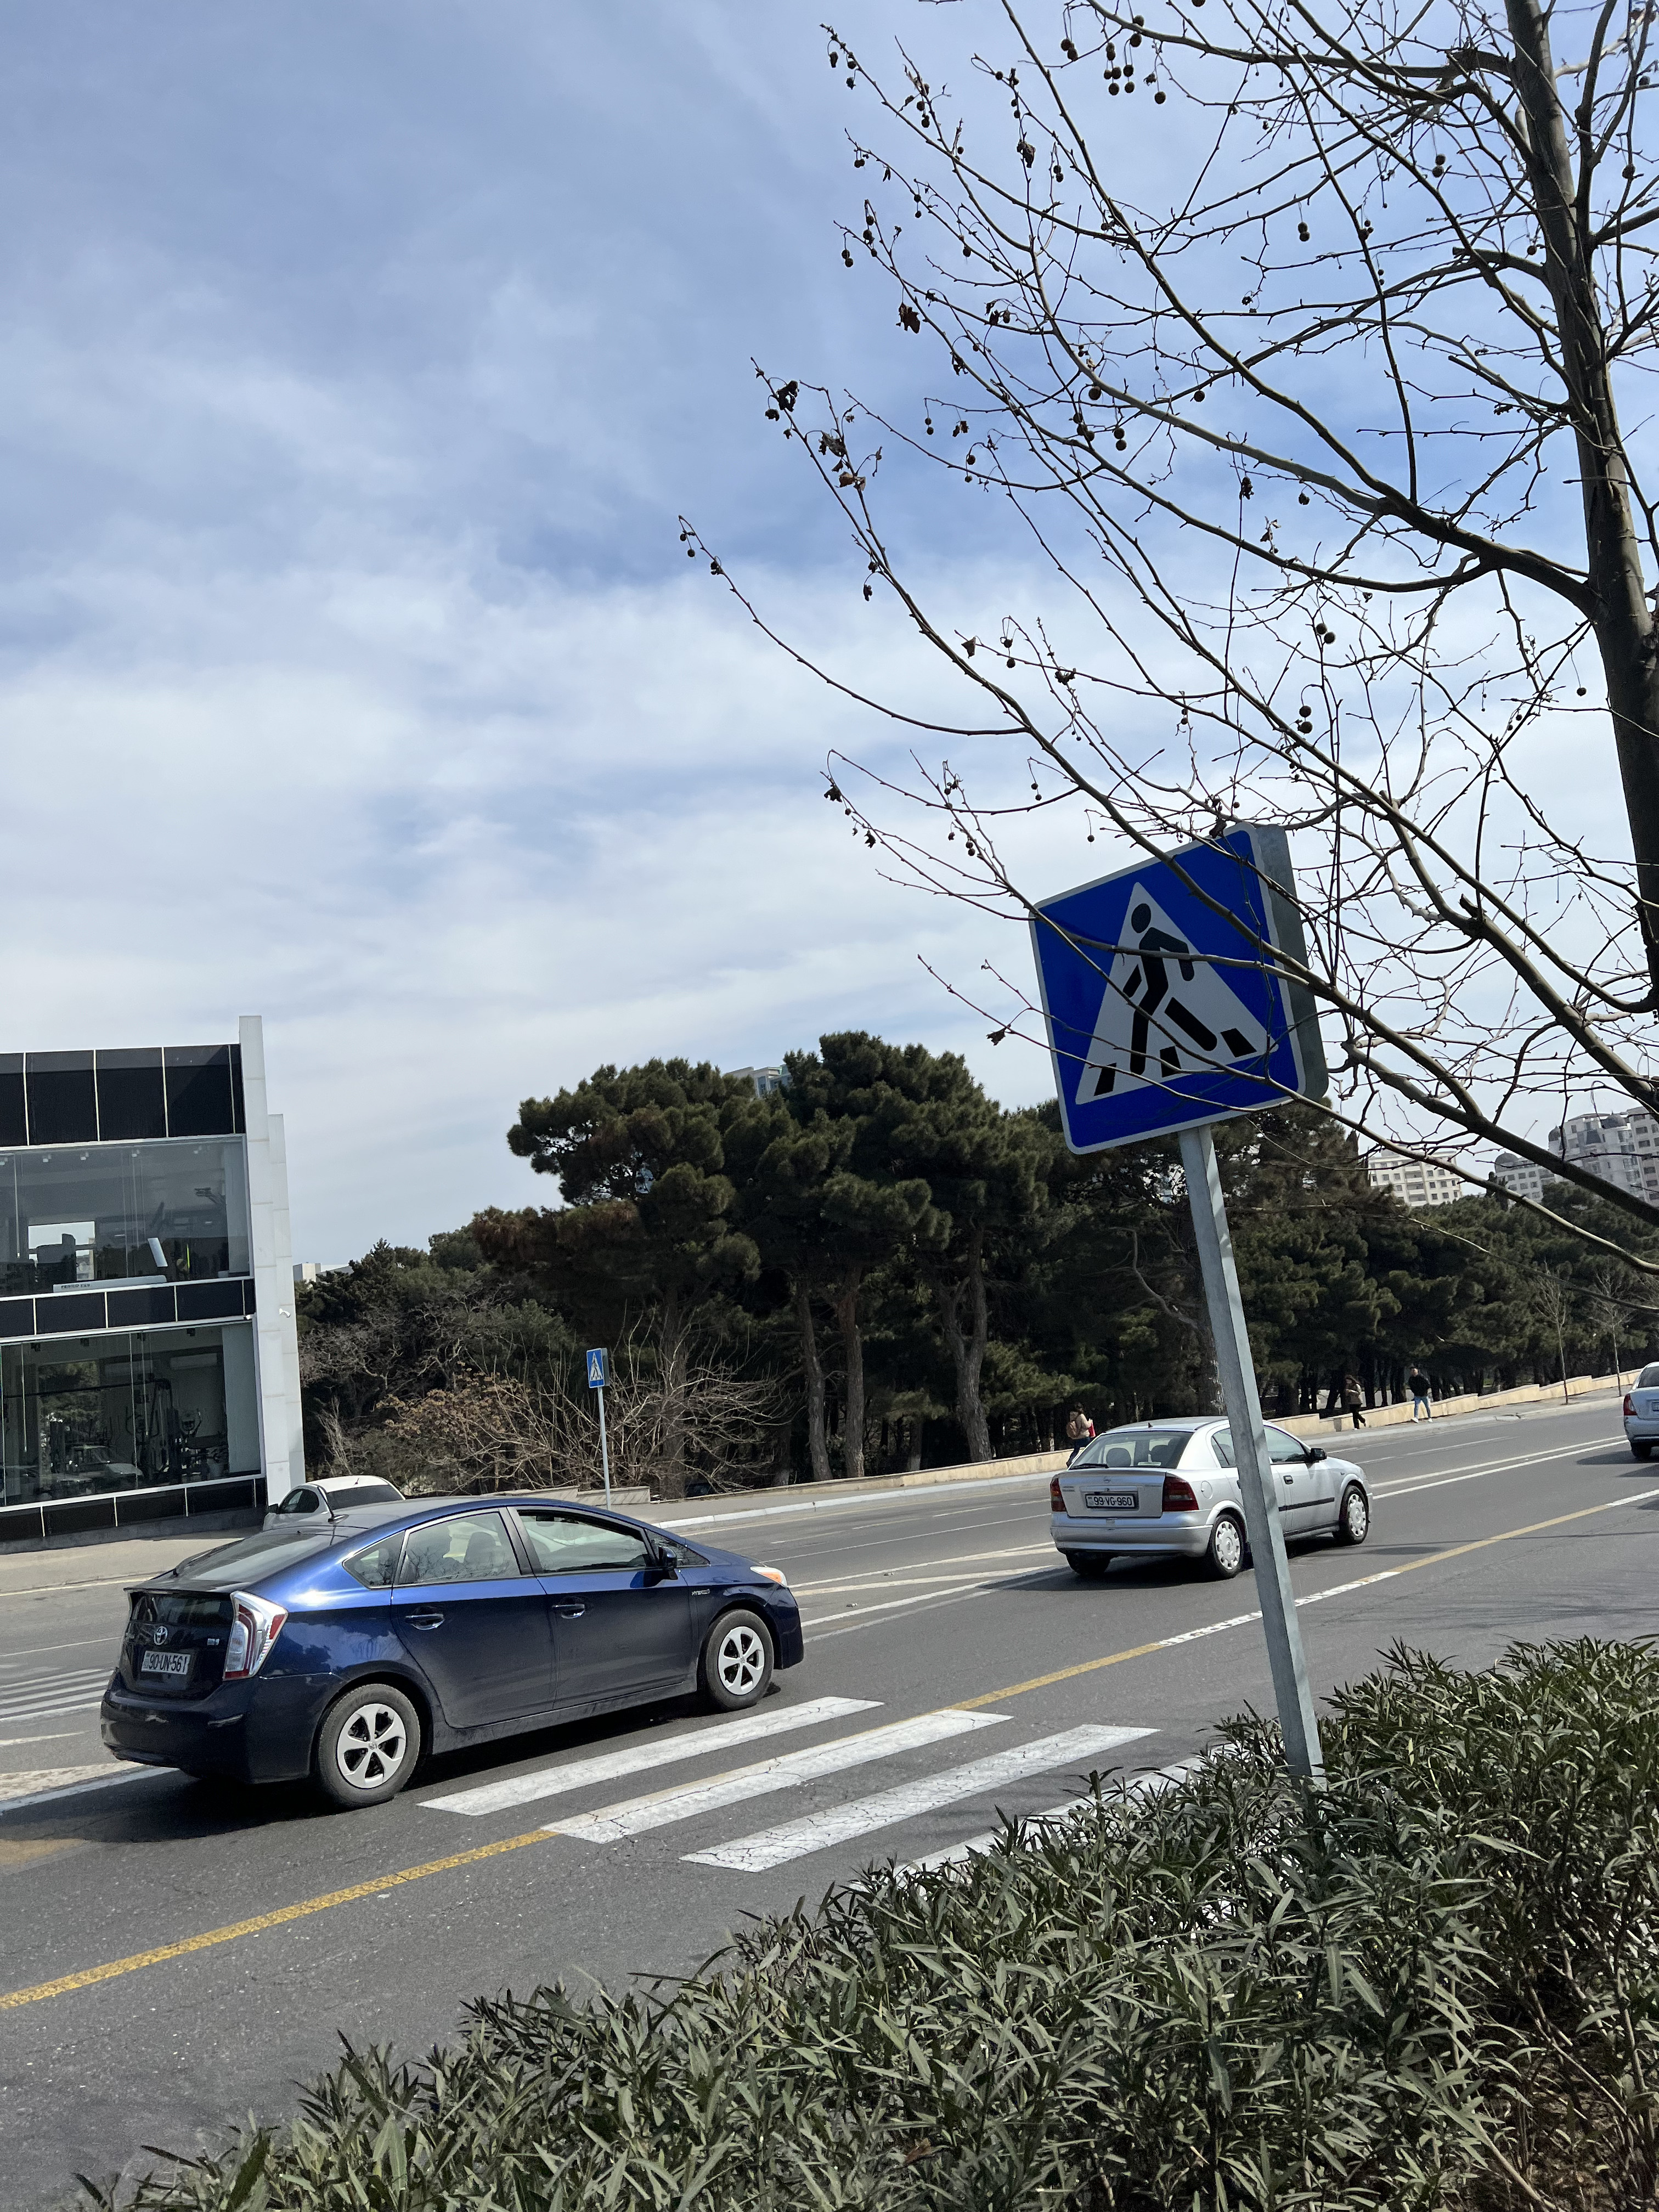Pedestrian Crossing: (1035, 833, 1304, 1146)
